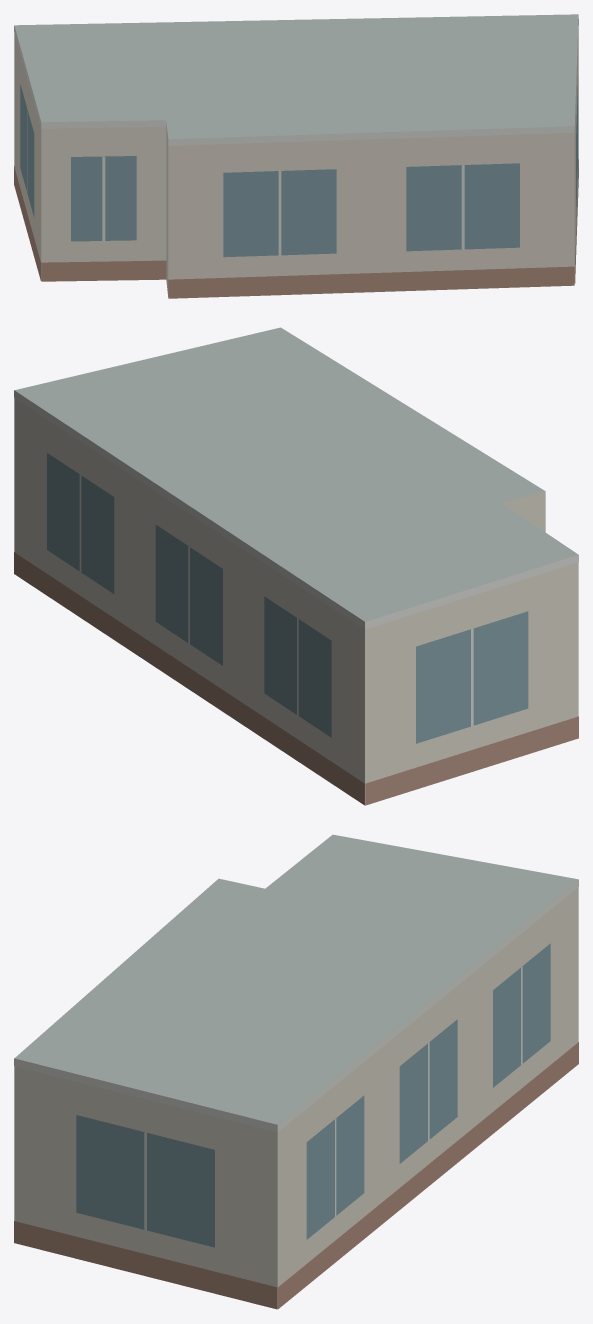
File: survey-upis-32819817.glb
3 renders of one model, top to bottom at view 1: azimuth 30°, elevation 25°; view 2: azimuth 150°, elevation 25°; view 3: azimuth 270°, elevation 25°, orthographic. The views are drawn at different scales.
Parts seen in each view (by area): view 1: survey-upis-32819817.tmp; view 2: survey-upis-32819817.tmp; view 3: survey-upis-32819817.tmp.
Boxes of the visible parts, x1,y1,x2,y2 form: survey-upis-32819817.tmp: (14, 14, 578, 298); survey-upis-32819817.tmp: (14, 327, 578, 805); survey-upis-32819817.tmp: (14, 834, 578, 1309).
Bounding box in the file's own units: 10.3 × 3.05 × 8.46.
